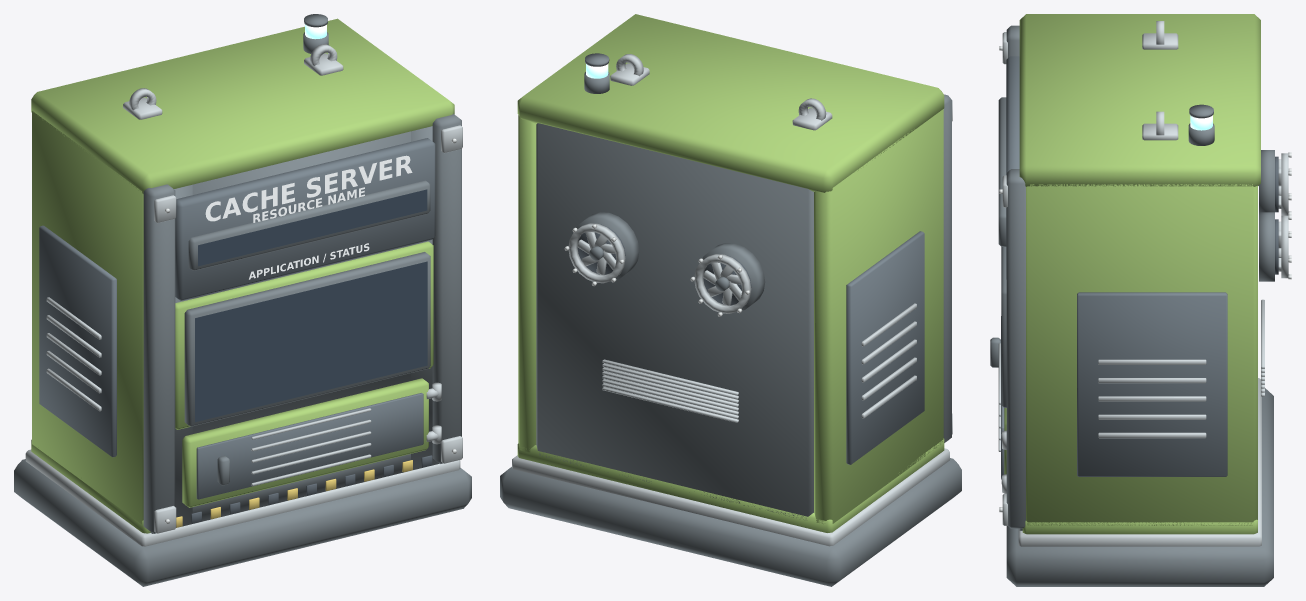
Rendered from cache_server_standard.glb.
3 renders of one model, left to right at view 1: azimuth 30°, elevation 25°; view 2: azimuth 150°, elevation 25°; view 3: azimuth 270°, elevation 25°, orthographic. The views are drawn at different scales.
Parts seen in each view (by area): view 1: Roof_lime, LiveViewSurface_glass, SideWall_lime, CornerPost_frame, Skid_frame, FrontHeader_graphite, SideServicePanel_graphite, DoorMoving_Inset_graphite, DoorMoving_Panel_lime, SkidDeck_steel, LiveViewSurfaceFrame_frame, ResourceNameSurface_glass (+15 smaller); view 2: BackWall_frame, Roof_lime, SideWall_lime, Skid_frame, SideServicePanel_graphite, SkidDeck_steel, KickPlate_lime, RearFan_steel, RearVent_steel, CornerPost_frame, RearFan_frame, SideLouver_steel (+3 smaller); view 3: SideWall_lime, Roof_lime, SideServicePanel_graphite, Skid_frame, CornerPost_frame, SkidDeck_steel, SideLouver_steel, KickPlate_lime, RearFan_frame, FrontHeader_graphite, RearFan_steel, ResourceNameSurfaceFrame_frame (+6 smaller).
Part boxes in pixels (x1=…): Roof_lime: x1=31, y1=18, x2=454, y2=193; LiveViewSurface_glass: x1=195, y1=261, x2=427, y2=422; SideWall_lime: x1=32, y1=111, x2=143, y2=524; CornerPost_frame: x1=143, y1=114, x2=461, y2=533; Skid_frame: x1=14, y1=459, x2=471, y2=586; FrontHeader_graphite: x1=175, y1=138, x2=435, y2=300; SideServicePanel_graphite: x1=39, y1=225, x2=116, y2=457; DoorMoving_Inset_graphite: x1=196, y1=393, x2=423, y2=499; DoorMoving_Panel_lime: x1=182, y1=378, x2=428, y2=507; SkidDeck_steel: x1=25, y1=449, x2=460, y2=546; LiveViewSurfaceFrame_frame: x1=184, y1=252, x2=430, y2=426; ResourceNameSurface_glass: x1=198, y1=189, x2=427, y2=266; BackWall_frame: x1=536, y1=123, x2=813, y2=519; Roof_lime: x1=517, y1=14, x2=944, y2=192; SideWall_lime: x1=518, y1=109, x2=943, y2=523; Skid_frame: x1=500, y1=458, x2=961, y2=586; SideServicePanel_graphite: x1=846, y1=231, x2=924, y2=464; SkidDeck_steel: x1=512, y1=448, x2=949, y2=546; KickPlate_lime: x1=517, y1=438, x2=944, y2=532; RearFan_steel: x1=568, y1=223, x2=751, y2=313; RearVent_steel: x1=602, y1=359, x2=738, y2=422; CornerPost_frame: x1=943, y1=94, x2=951, y2=442; RearFan_frame: x1=576, y1=212, x2=765, y2=312; SideLouver_steel: x1=861, y1=303, x2=916, y2=418; SideWall_lime: x1=1026, y1=184, x2=1257, y2=525; Roof_lime: x1=1019, y1=14, x2=1260, y2=186; SideServicePanel_graphite: x1=1077, y1=292, x2=1227, y2=476; Skid_frame: x1=1006, y1=388, x2=1273, y2=586; CornerPost_frame: x1=1006, y1=25, x2=1025, y2=528; SkidDeck_steel: x1=1018, y1=378, x2=1261, y2=546; SideLouver_steel: x1=1098, y1=359, x2=1206, y2=438; KickPlate_lime: x1=1022, y1=519, x2=1257, y2=534; RearFan_frame: x1=1259, y1=150, x2=1274, y2=281; FrontHeader_graphite: x1=1006, y1=56, x2=1019, y2=279; RearFan_steel: x1=1278, y1=153, x2=1288, y2=278; ResourceNameSurfaceFrame_frame: x1=998, y1=97, x2=1006, y2=246.
Bounding box in the file's own units: 2 × 2.48 × 1.51.
